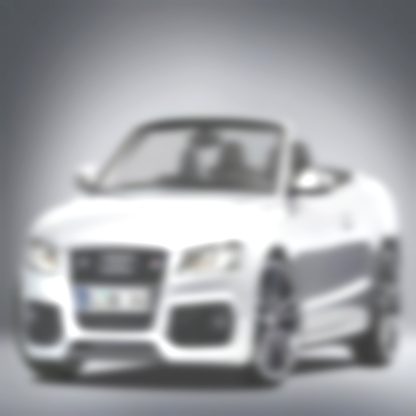Vehicle: (13, 109, 404, 385)
